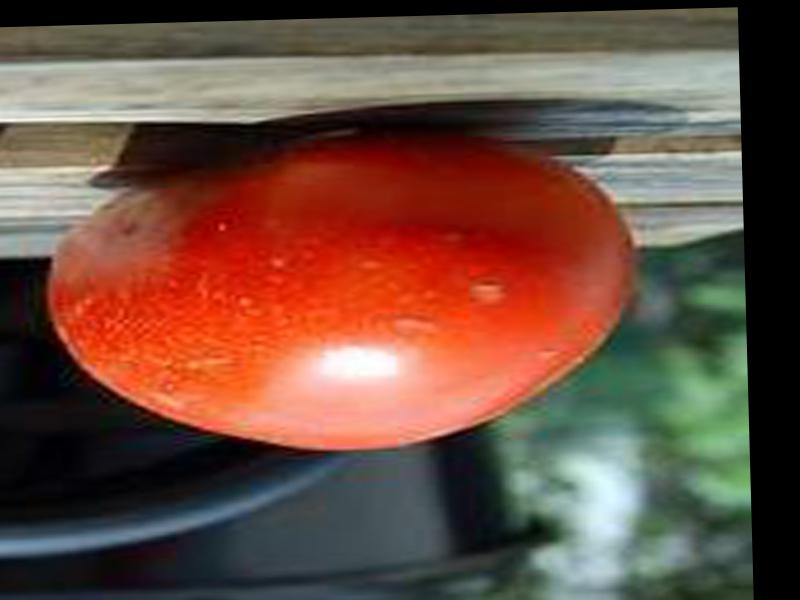Tomato: (44, 131, 642, 459)
